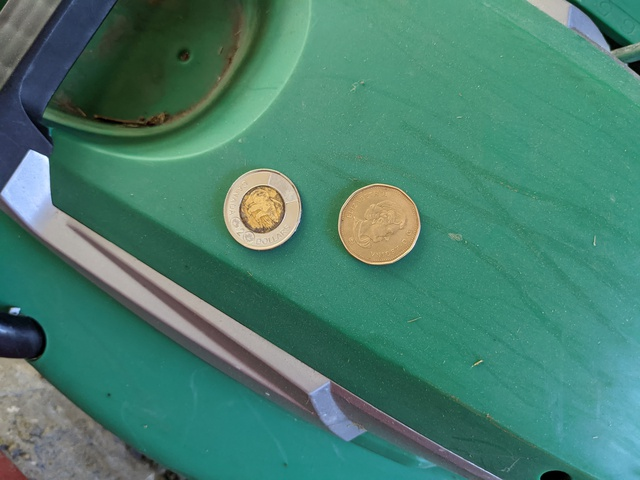loonie: (337, 178, 427, 266)
twonie: (221, 171, 308, 254)
